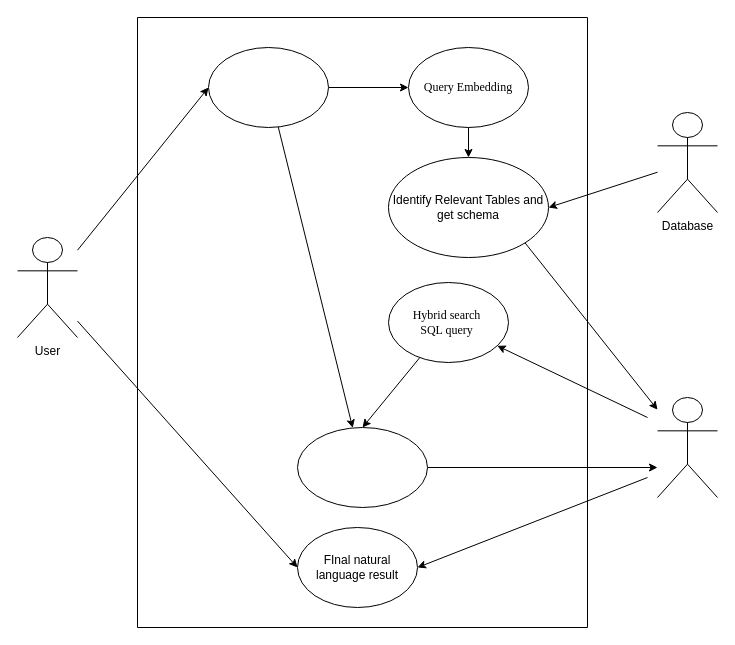
This 735x645 diagram has some shape labels left out. Here are the shapes that lost their labels. From the top down, the box of each, then its label:
(208, 46, 328, 128): Input query
(296, 426, 428, 508): Input query + results
(656, 396, 718, 498): LLM
